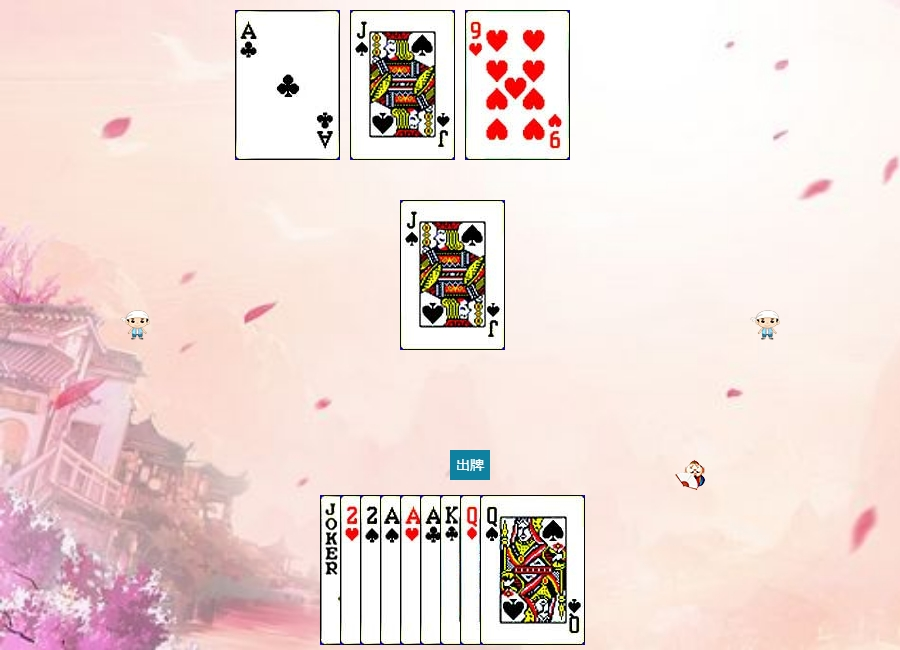11~4: (350, 10, 455, 160), (400, 200, 505, 350)
12~1: (460, 495, 565, 645)
12~4: (480, 495, 585, 645)
13~2: (440, 495, 545, 645)
14~2: (235, 10, 340, 160), (420, 495, 525, 645)
14~3: (400, 495, 505, 645)
14~4: (380, 495, 485, 645)
15~3: (340, 495, 445, 645)
15~4: (360, 495, 465, 645)
17~3: (320, 495, 425, 645)
9~3: (465, 10, 570, 160)
